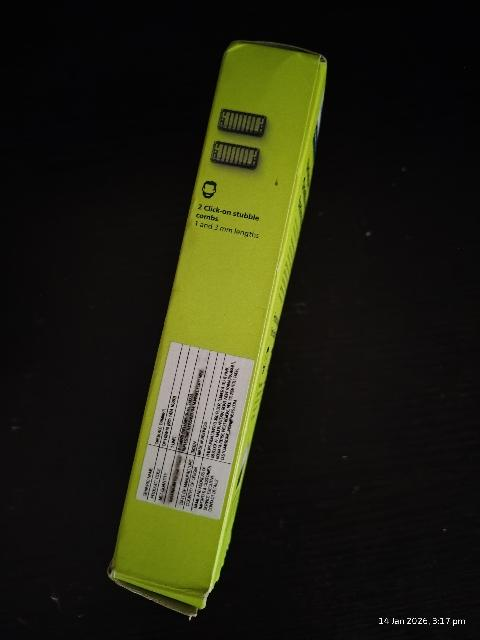phillips oneblade: (103, 35, 334, 615)
